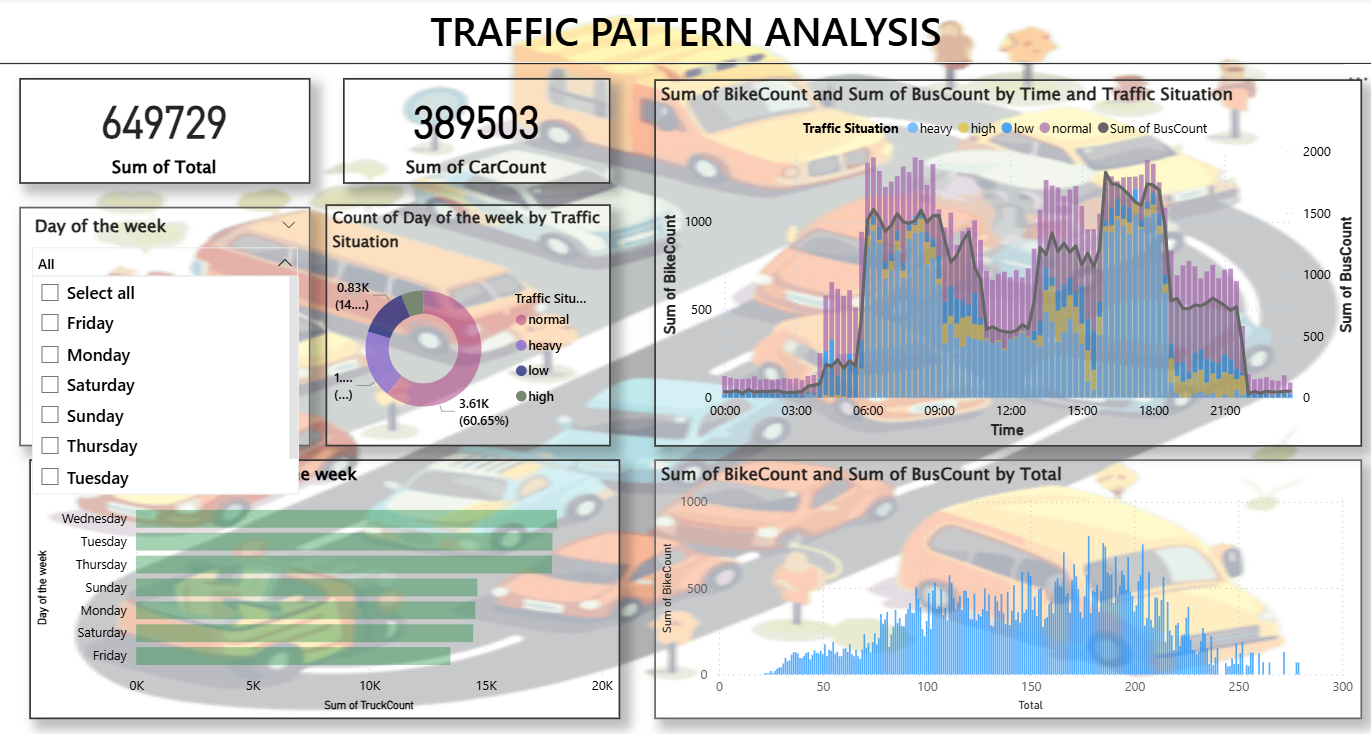

This screenshot's page, from the dashboard's own definition file:
{"tool":"powerbi","page":{"name":"Page 1","canvas":[1300,699],"ordinal":0},"visuals":[{"type":"textbox","box":[0,0,1300,62],"z":0},{"type":"card","fields":{"Values":["Sum(TrafficTwoMonth.Total)"]},"box":[20.1,75.6,275.2,100.4],"z":1000},{"type":"card","fields":{"Values":["Sum(TrafficTwoMonth.CarCount)"]},"box":[325.9,75.6,252.7,100.4],"z":2000},{"type":"lineStackedColumnComboChart","fields":{"Category":["TrafficTwoMonth.Time"],"Y":["Sum(TrafficTwoMonth.BikeCount)"],"Y2":["Sum(TrafficTwoMonth.BusCount)"],"Series":["TrafficTwoMonth.Traffic Situation"]},"box":[620,76.8,668.4,347.2],"z":3000},{"type":"donutChart","fields":{"Category":["TrafficTwoMonth.Traffic Situation"],"Y":["CountNonNull(TrafficTwoMonth.Day of the week)"]},"box":[309.4,194.9,269.3,229.1],"z":4000},{"type":"barChart","fields":{"Category":["TrafficTwoMonth.Day of the week"],"Y":["Sum(TrafficTwoMonth.TruckCount)"]},"box":[29.5,435.8,558.6,245.6],"z":6000},{"type":"slicer","fields":{"Values":["TrafficTwoMonth.Day of the week"]},"box":[20.1,197.2,275.2,226.7],"z":7000},{"type":"lineStackedColumnComboChart","fields":{"Category":["TrafficTwoMonth.Total"],"Y":["Sum(TrafficTwoMonth.BikeCount)"]},"box":[620,435.8,668.4,245.6],"z":8000}]}

Visuals, with their boxes in screenshot pixels (x1, y1, x2, y2), scaled from the page's 1300x699 canvas onto the 1371x734 screenshot:
textbox: (0, 0, 1370, 65)
card - Sum(TrafficTwoMonth.Total): (21, 79, 311, 185)
card - Sum(TrafficTwoMonth.CarCount): (344, 79, 610, 185)
lineStackedColumnComboChart - TrafficTwoMonth.Time x Sum(TrafficTwoMonth.BikeCount): (654, 81, 1359, 445)
donutChart - TrafficTwoMonth.Traffic Situation x CountNonNull(TrafficTwoMonth.Day of the week): (326, 205, 610, 445)
barChart - TrafficTwoMonth.Day of the week x Sum(TrafficTwoMonth.TruckCount): (31, 458, 620, 716)
slicer - TrafficTwoMonth.Day of the week: (21, 207, 311, 445)
lineStackedColumnComboChart - TrafficTwoMonth.Total x Sum(TrafficTwoMonth.BikeCount): (654, 458, 1359, 716)
